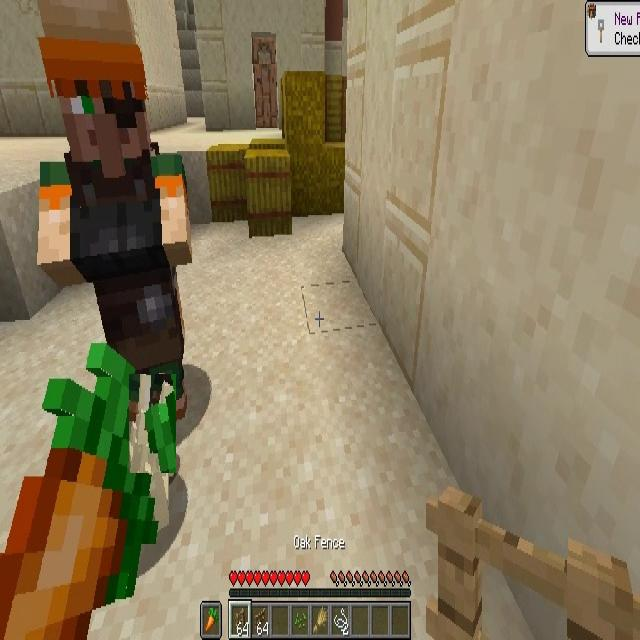people: (36, 0, 188, 421)
rabbit: (129, 374, 176, 473)
